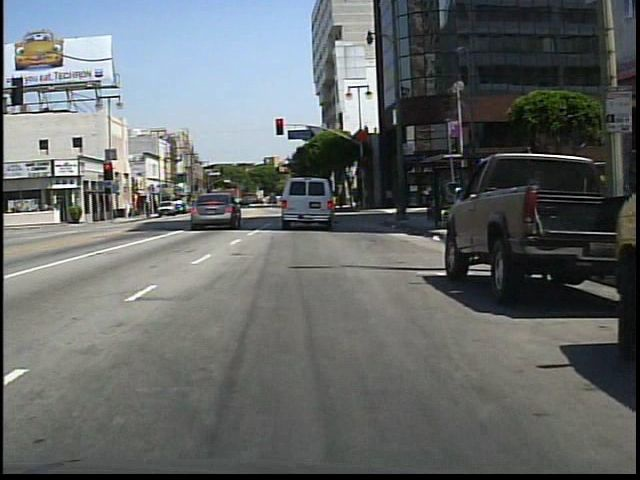person: (316, 182, 338, 223), (216, 193, 231, 218)
